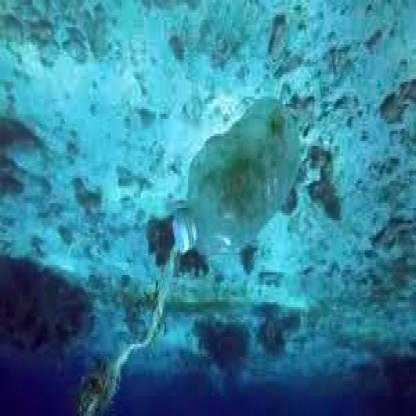pbottle: (168, 94, 306, 258)
